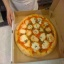pizza: (15, 14, 56, 55)
